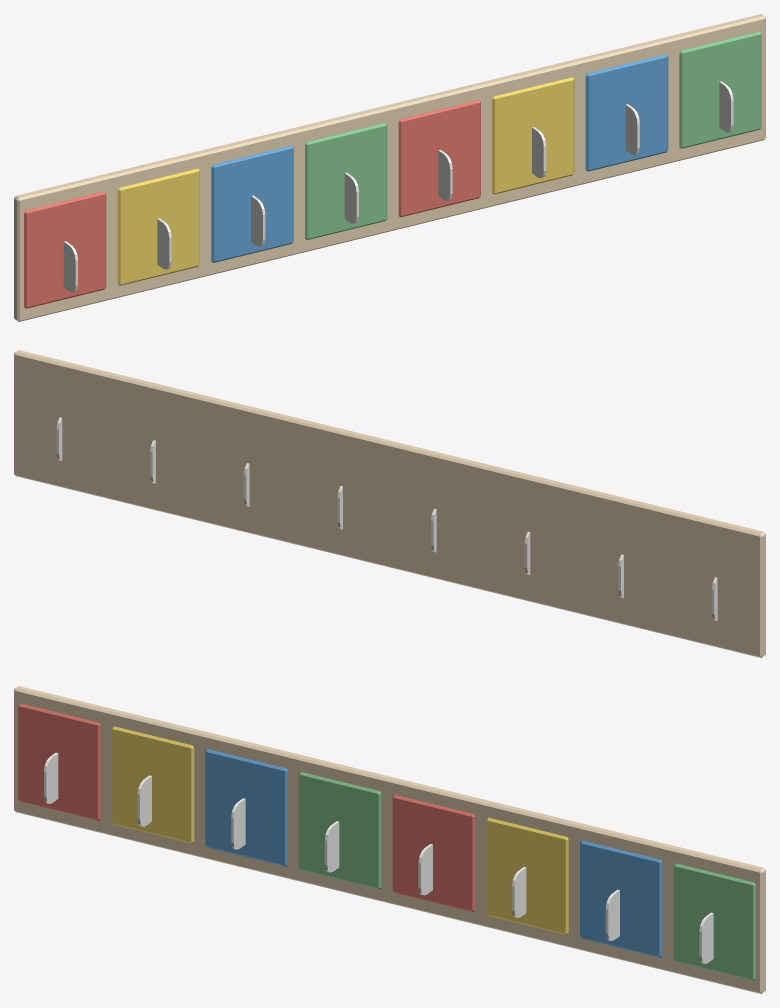
Rendered from nursery-and-primary-classroom-number-and-letter-frieze-32cade55__35000.glb.
3 renders of one model, top to bottom at view 1: azimuth 30°, elevation 25°; view 2: azimuth 150°, elevation 25°; view 3: azimuth 330°, elevation 25°, orthographic.
Parts seen in each view (by area): view 1: number-and-letter-frieze; view 2: number-and-letter-frieze; view 3: number-and-letter-frieze.
Boxes of the visible parts, bbox=[...] form: number-and-letter-frieze: bbox=[14, 14, 765, 321]; number-and-letter-frieze: bbox=[14, 350, 765, 657]; number-and-letter-frieze: bbox=[14, 686, 765, 993].
Bounding box in the file's own units: 1.2 × 0.19 × 0.06.
